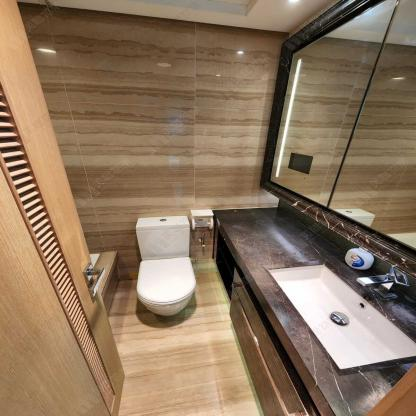Toilet: (134, 214, 199, 319)
Toilet Sink: (261, 263, 416, 372)
